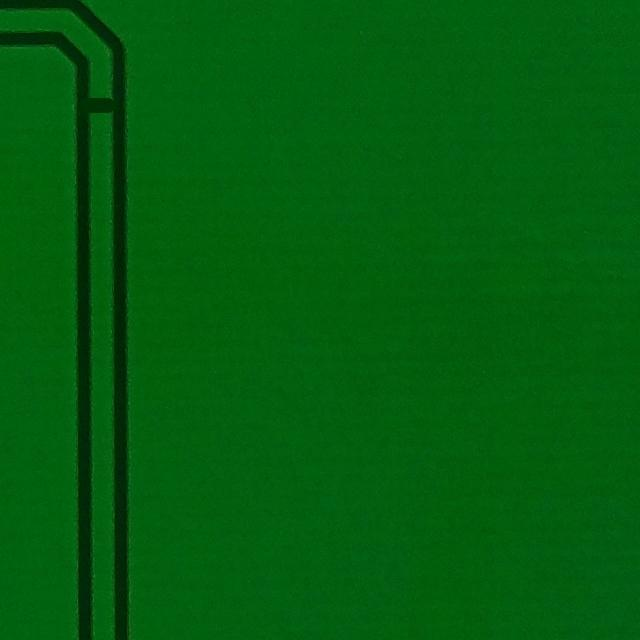open_circuit: (83, 84, 121, 124)
